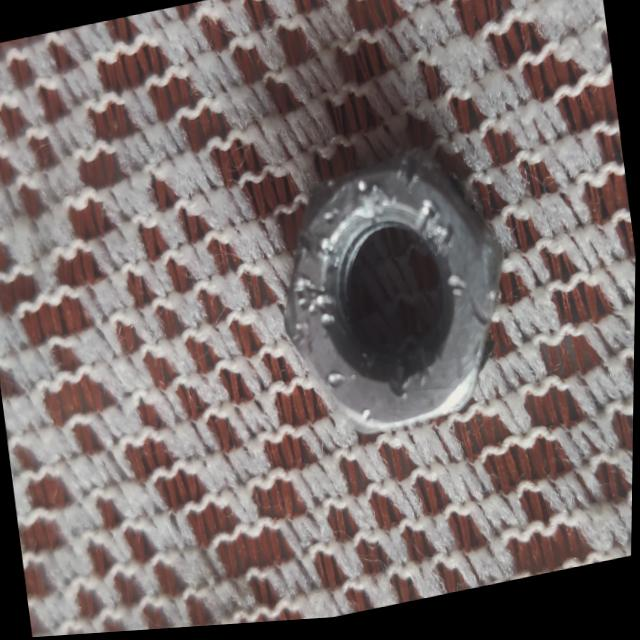infected nut: (286, 156, 504, 437)
